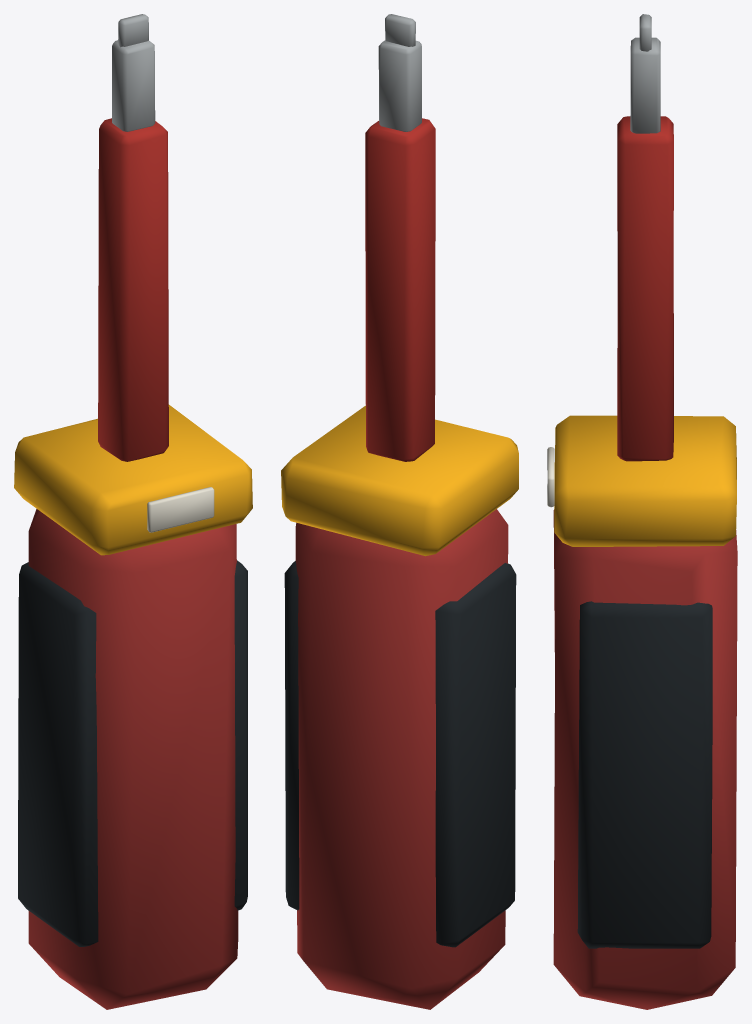
File: torquedriver_default.low.glb
3 views of the same model, side by side, from view 1: azimuth 30°, elevation 25°; view 2: azimuth 150°, elevation 25°; view 3: azimuth 270°, elevation 25° (orthographic).
Parts seen in each view (by area): view 1: node-4, node-3 · Original material.001, node-11, node-8, node-10 · Original material.005, node-9; view 2: node-4, node-3 · Original material.001, node-11, node-8, node-10 · Original material.005; view 3: node-3 · Original material.001, node-4, node-8, node-11, node-10 · Original material.005, node-9.
Part boxes in pixels (x1,y1,x2,y2): node-4: [28, 509, 238, 1009]; node-3 · Original material.001: [18, 560, 247, 946]; node-11: [98, 118, 168, 461]; node-8: [14, 404, 252, 555]; node-10 · Original material.005: [112, 14, 155, 131]; node-9: [147, 487, 214, 532]; node-4: [295, 509, 508, 1009]; node-3 · Original material.001: [284, 561, 516, 947]; node-11: [365, 118, 435, 461]; node-8: [281, 405, 518, 556]; node-10 · Original material.005: [378, 14, 421, 131]; node-3 · Original material.001: [577, 601, 712, 948]; node-4: [553, 509, 737, 1009]; node-8: [554, 415, 736, 546]; node-11: [617, 116, 673, 461]; node-10 · Original material.005: [630, 14, 660, 133]; node-9: [547, 447, 554, 507].
Size of the model in its own units: 0.2299 by 1.21 by 0.2152.
